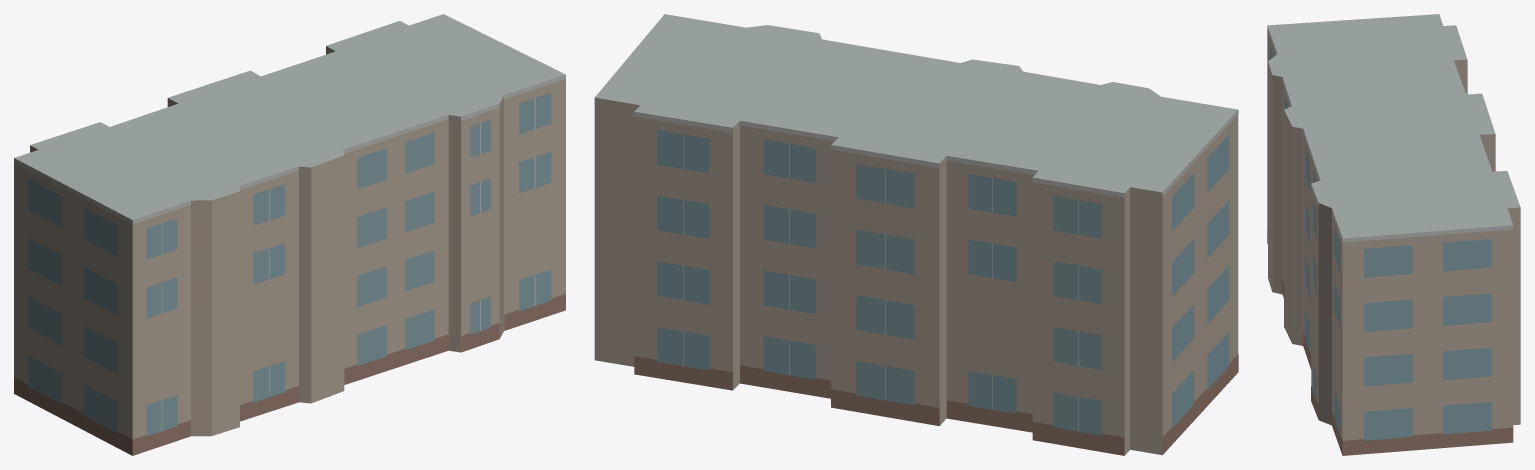
File: survey-upis-32716148.glb
3 renders of one model, left to right at view 1: azimuth 30°, elevation 25°; view 2: azimuth 150°, elevation 25°; view 3: azimuth 270°, elevation 25°, orthographic. The views are drawn at different scales.
Parts seen in each view (by area): view 1: survey-upis-32716148.tmp; view 2: survey-upis-32716148.tmp; view 3: survey-upis-32716148.tmp.
Part boxes in pixels (box(x1,y1,x2,y2)): survey-upis-32716148.tmp: box(14, 14, 565, 455); survey-upis-32716148.tmp: box(594, 14, 1238, 455); survey-upis-32716148.tmp: box(1267, 14, 1520, 455).
Size of the model in its own units: 29.15 by 13.15 by 13.91.
